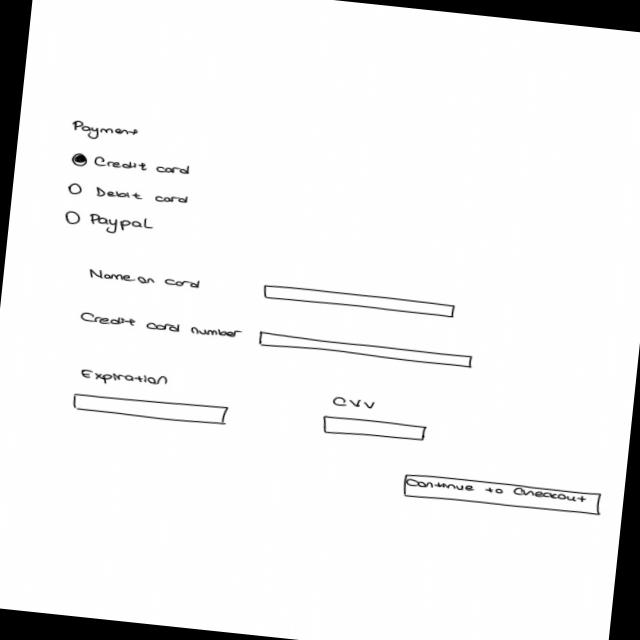button: (400, 471, 604, 518)
input: (255, 329, 475, 370), (260, 282, 460, 319), (70, 389, 230, 426), (321, 414, 428, 446)
label: (78, 310, 242, 342), (86, 266, 202, 291), (79, 366, 170, 391), (70, 118, 140, 144), (330, 394, 380, 411)
radio: (68, 151, 193, 179), (65, 181, 192, 207), (62, 208, 154, 238)
